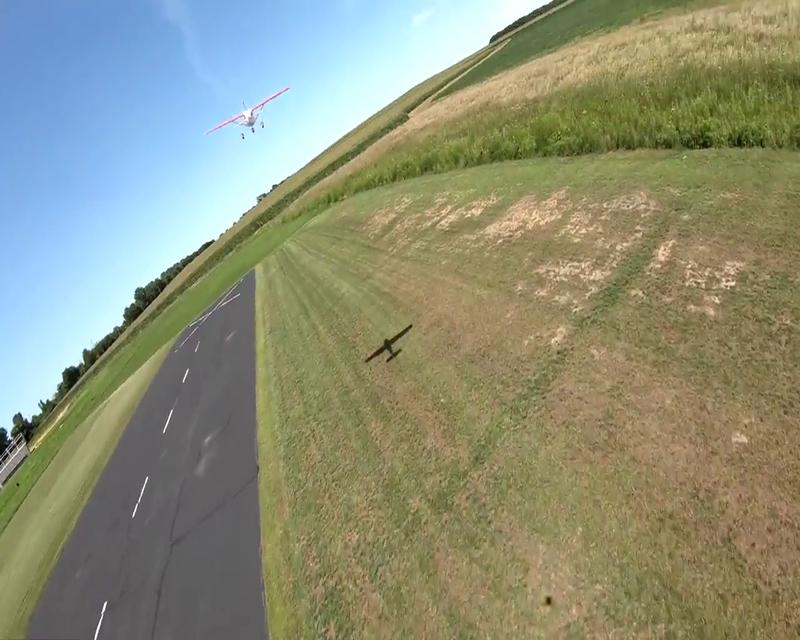UAV: (203, 86, 291, 140)
